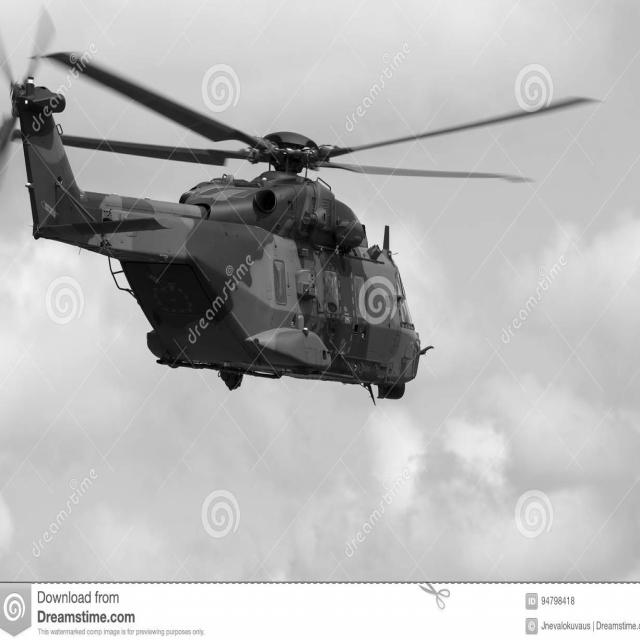helicopter: (1, 8, 607, 399)
